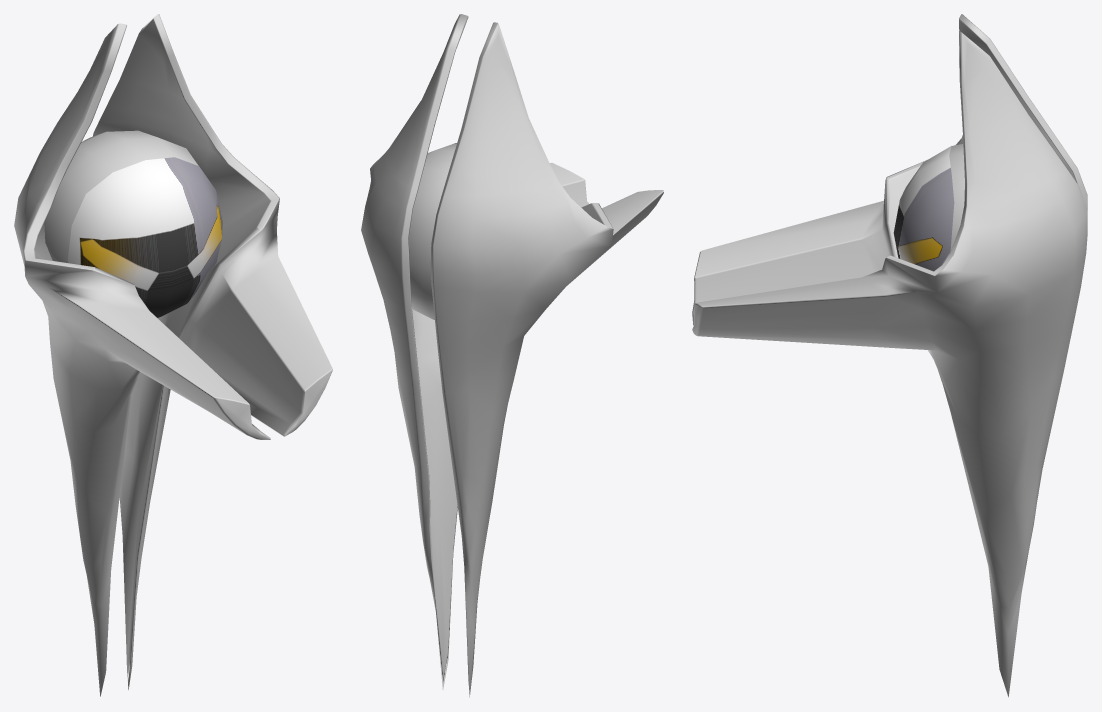
File: EnemyTwo_Ranged.fbx
3 renders of one model, left to right at view 1: azimuth 30°, elevation 25°; view 2: azimuth 150°, elevation 25°; view 3: azimuth 270°, elevation 25°, orthographic. The views are drawn at different scales.
Visible parts, largest first — view 1: Body, face; view 2: Body; view 3: Body, face.
Part boxes in pixels (<box>): Body: <box>14,14,332,696</box>; face: <box>67,157,222,317</box>; Body: <box>361,14,663,697</box>; Body: <box>692,14,1087,697</box>; face: <box>893,146,954,271</box>.
Bounding box in the file's own units: 1.97 × 5.14 × 2.76.
